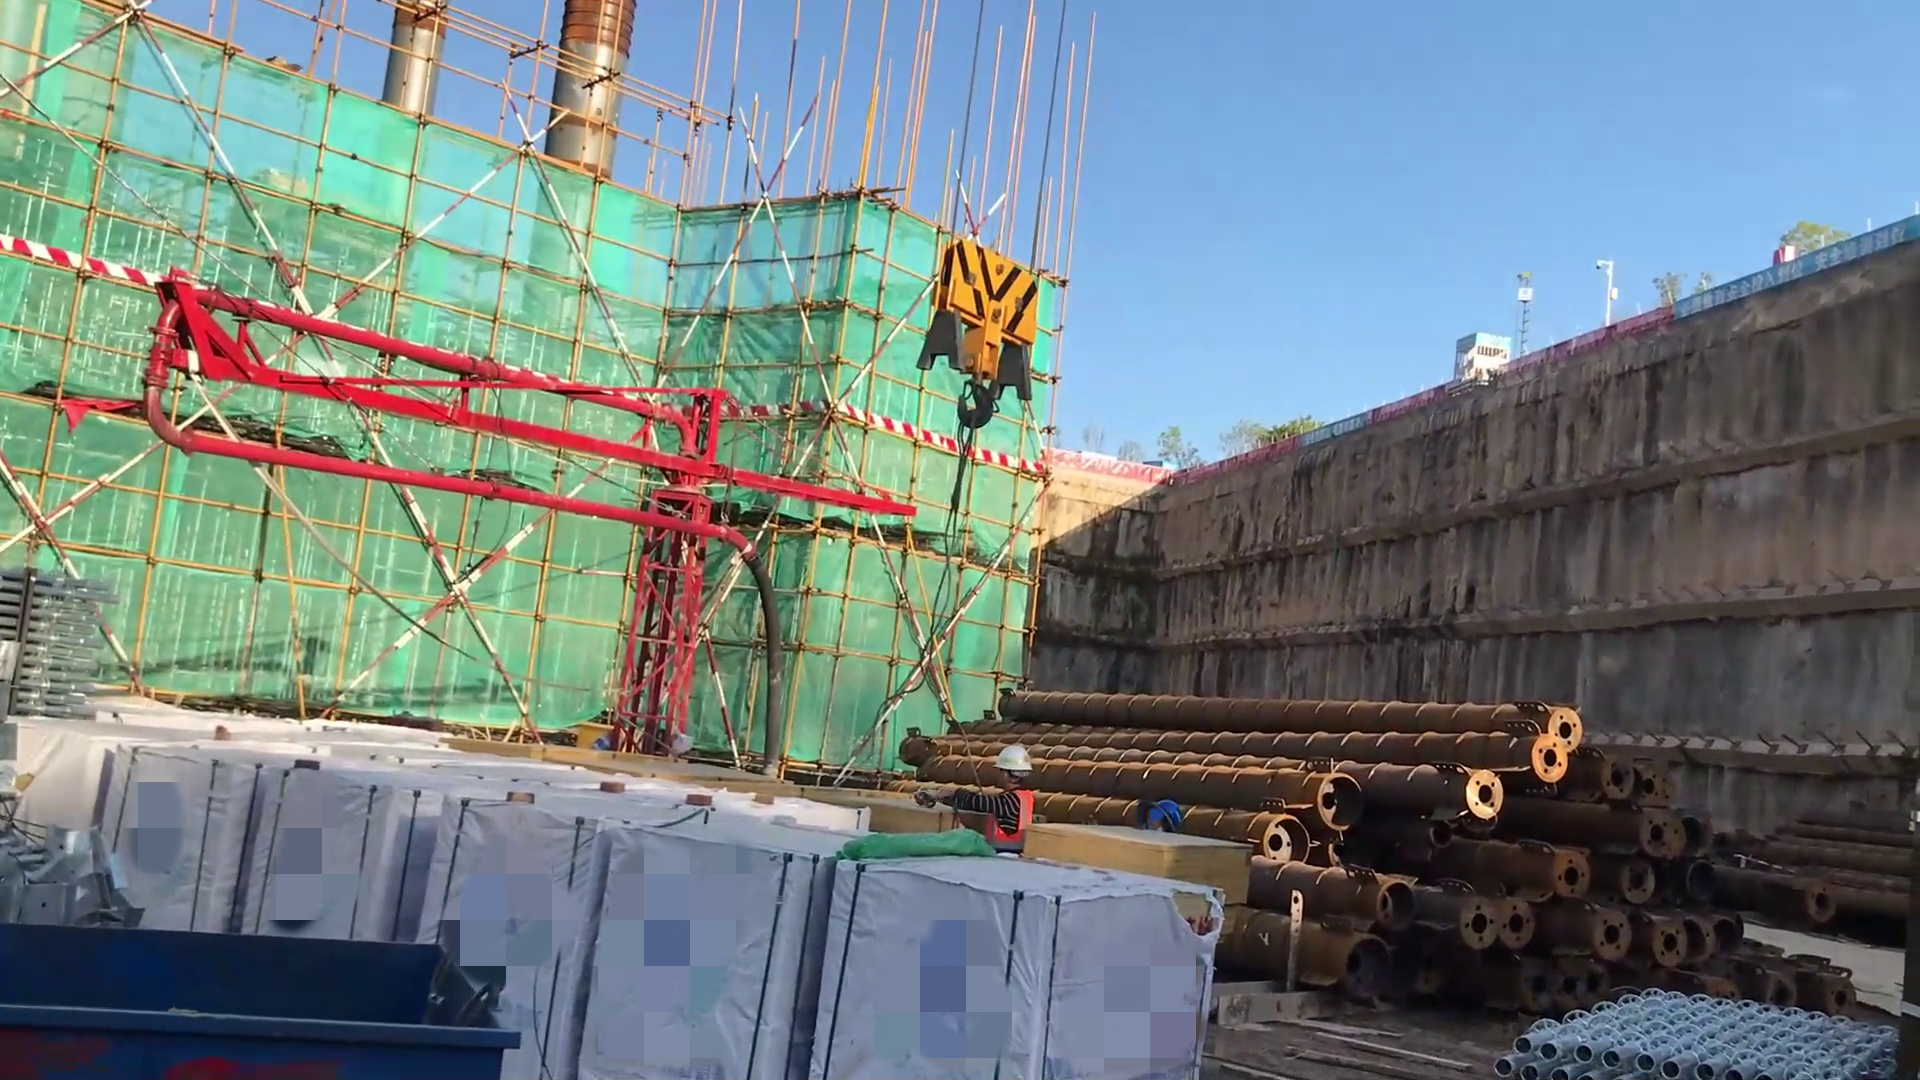board: (1019, 816, 1261, 913)
ebox: (558, 719, 636, 755)
helmet: (988, 747, 1044, 798), (1143, 790, 1190, 841)
hook: (920, 219, 1065, 539)
hopper: (1, 919, 537, 1076)
person: (911, 748, 1058, 869)
scaffold: (1481, 966, 1898, 1080), (1, 552, 143, 737)
slogan: (1659, 205, 1920, 327), (1287, 409, 1380, 452)
vest: (983, 784, 1046, 847)
